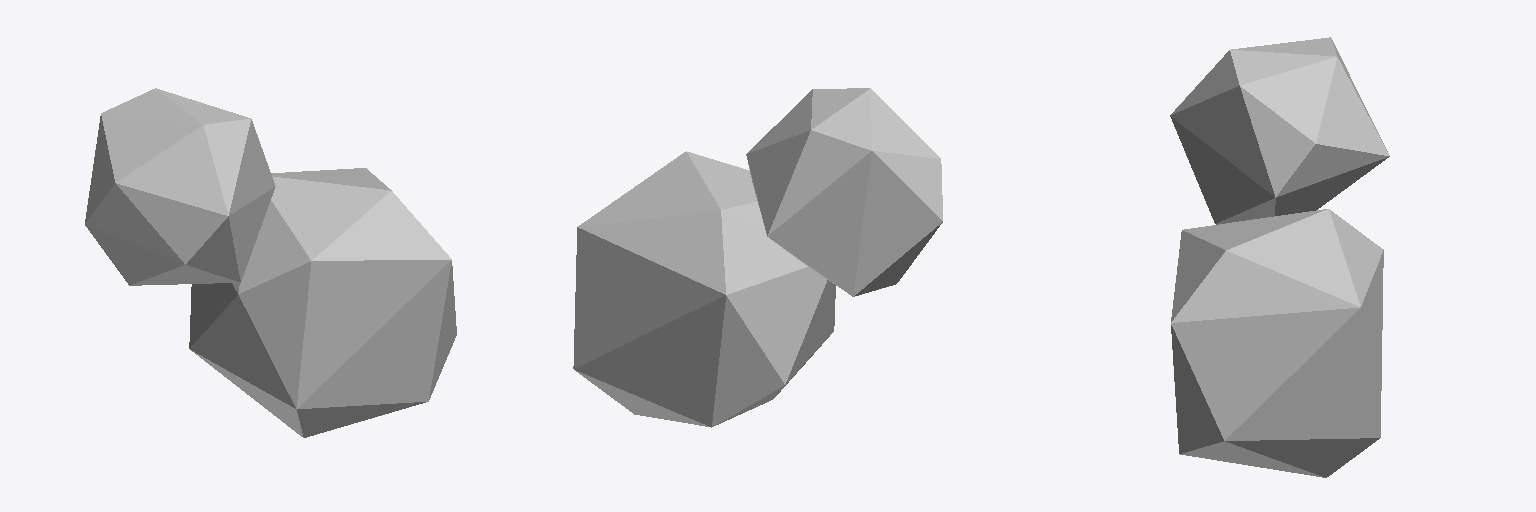
The model's file is Cloud14.obj.
3 views of the same model, side by side, from view 1: azimuth 30°, elevation 25°; view 2: azimuth 150°, elevation 25°; view 3: azimuth 270°, elevation 25° (orthographic).
Parts seen in each view (by area): view 1: Cloud14_Object_96_Object_46.001; view 2: Cloud14_Object_96_Object_46.001; view 3: Cloud14_Object_96_Object_46.001.
Boxes of the visible parts, <box> form: Cloud14_Object_96_Object_46.001: <box>85,88,456,437</box>; Cloud14_Object_96_Object_46.001: <box>573,88,942,427</box>; Cloud14_Object_96_Object_46.001: <box>1170,37,1389,477</box>.
Size of the model in its own units: 0.4838 by 0.4492 by 0.266.